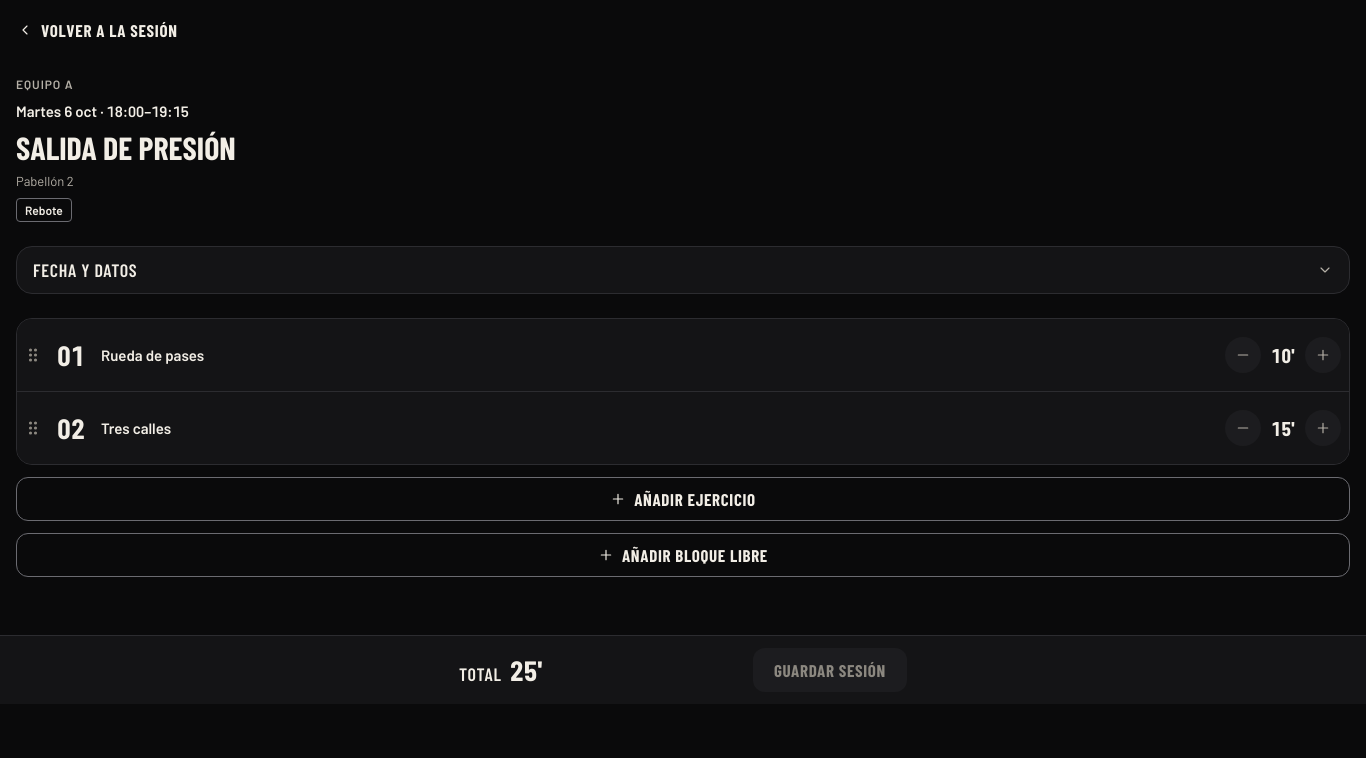
PracticeEditor · salir con cambios › con solo los datos de la sesión cambiados, también pregunta
Click the button "Fecha y datos" at (85, 270), box [16,246,1350,294]
(page scrolled)
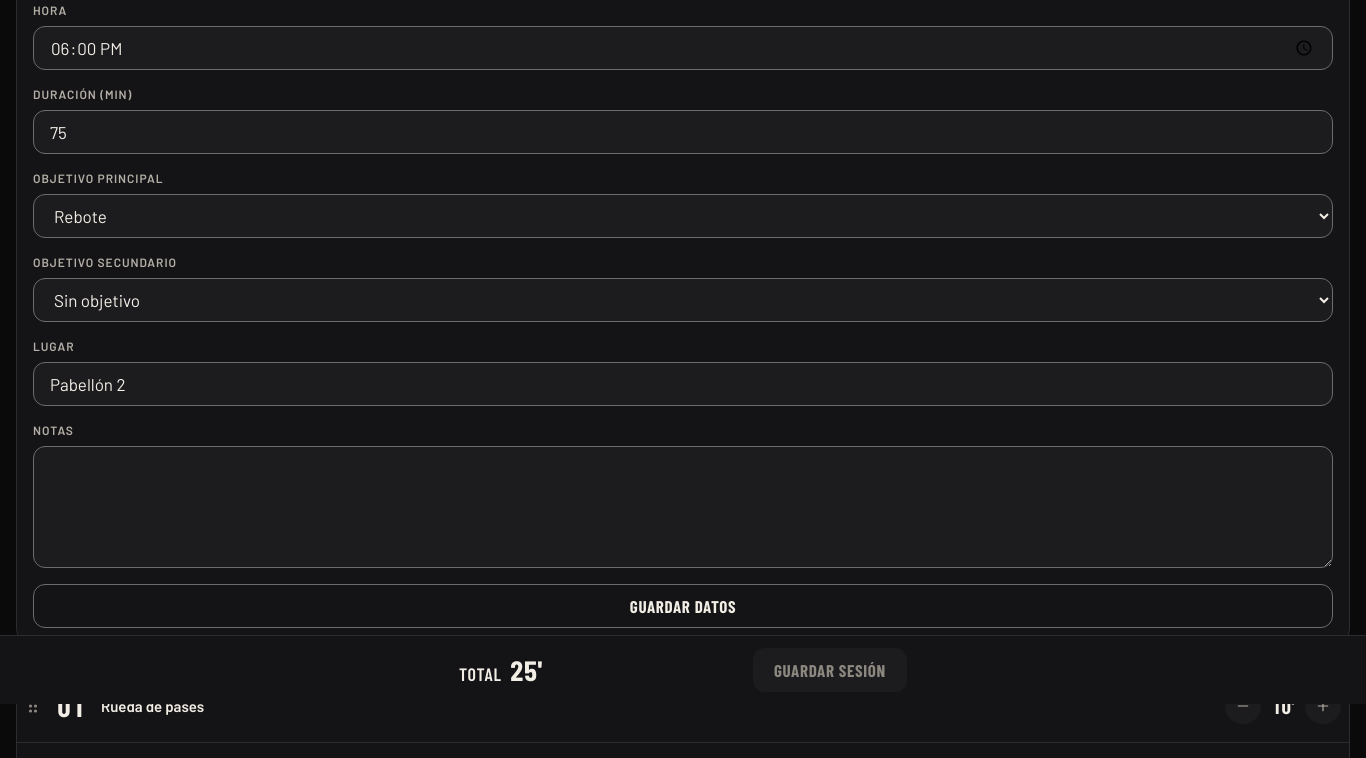
Replace the text in the field labelled "Lugar" with "Pabellón 3" at (683, 384), box [33,362,1333,406]
(page scrolled)
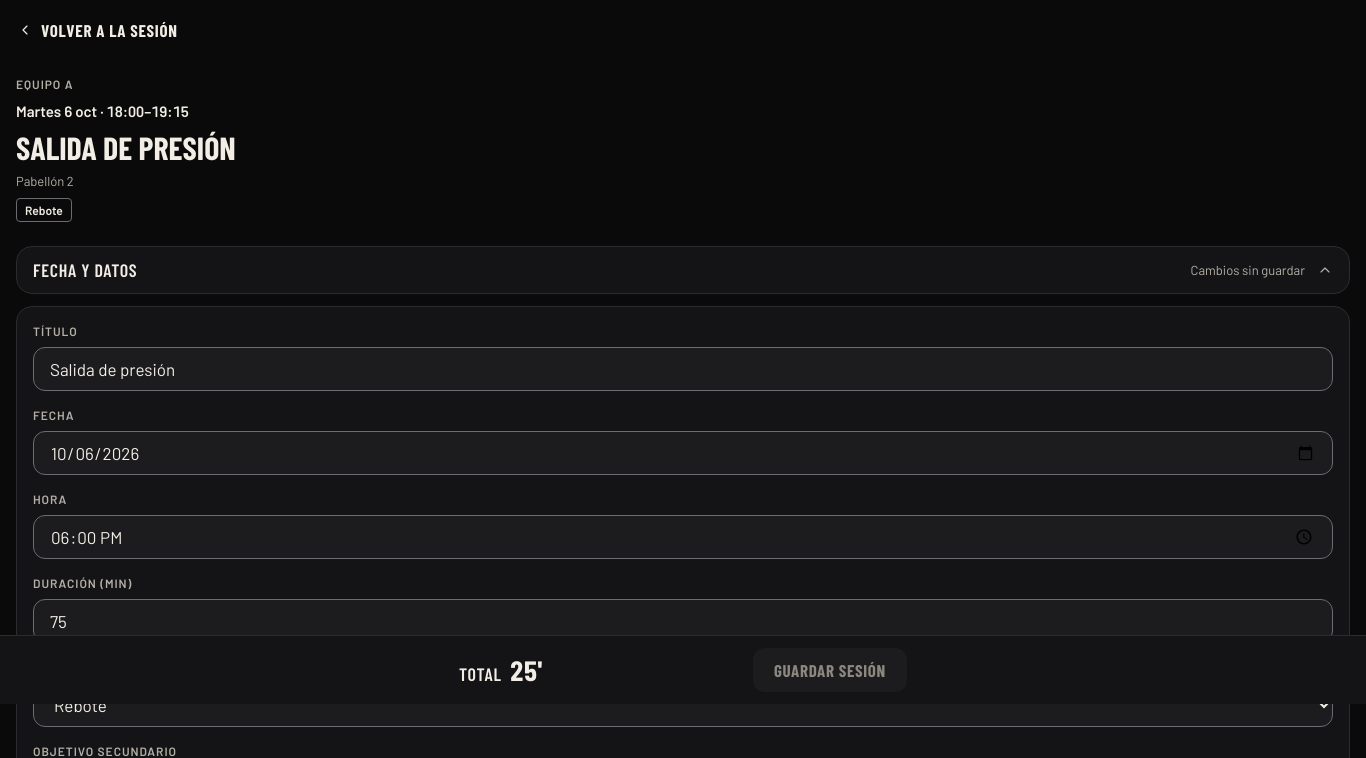
Click the link "Volver a la sesión" at (97, 30), box [17,20,178,40]
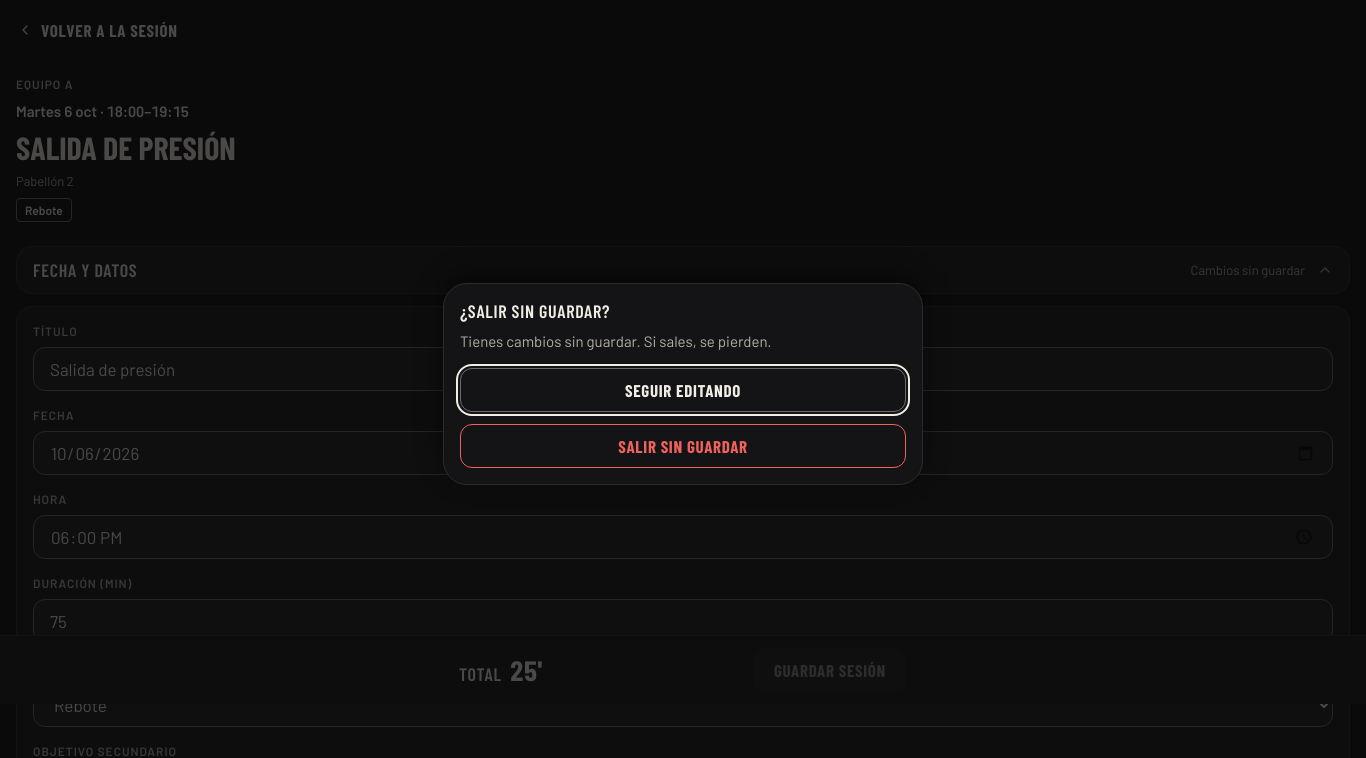
Expected: the dialog "¿Salir sin guardar?" is shown, [443,283,923,485]
